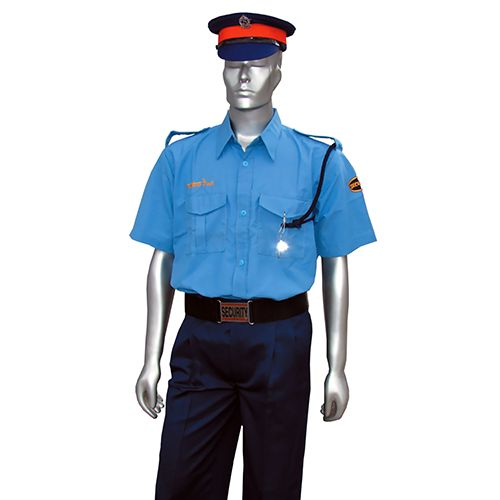uniform: (150, 113, 347, 484)
